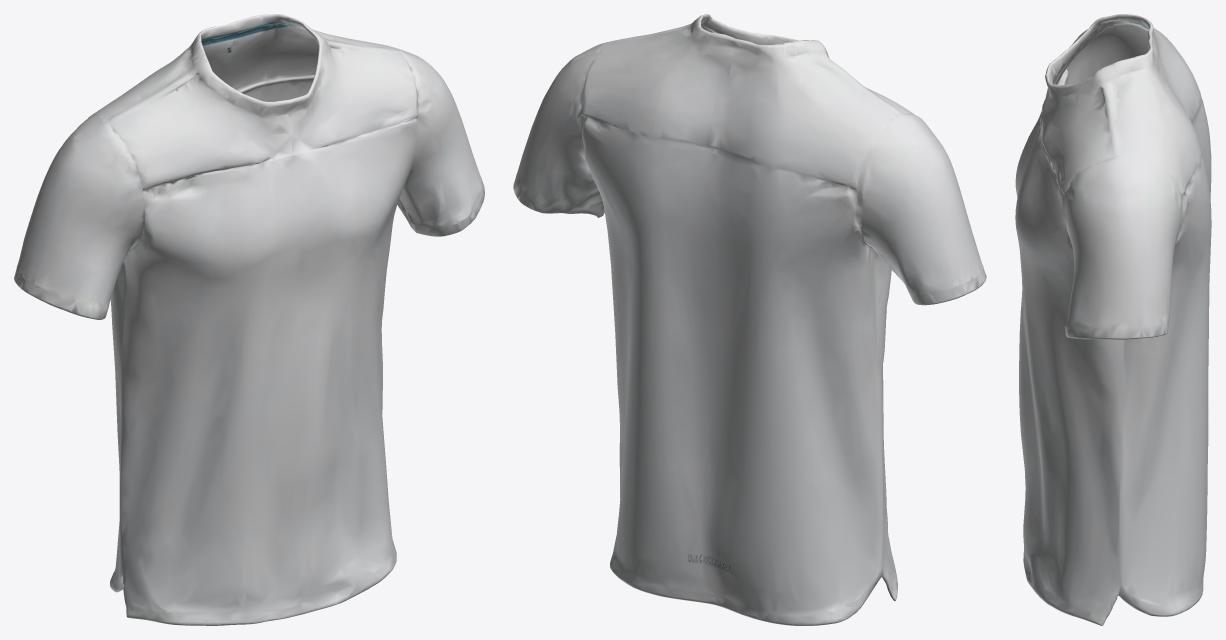
The picture shows the model from 3 angles, left to right: view 1: azimuth 30°, elevation 25°; view 2: azimuth 150°, elevation 25°; view 3: azimuth 270°, elevation 25°; orthographic projection. The views are drawn at different scales.
Visible parts, largest first — view 1: tripo_node_1e89f444-b3ab-4db3-b5c0-270a23798767; view 2: tripo_node_1e89f444-b3ab-4db3-b5c0-270a23798767; view 3: tripo_node_1e89f444-b3ab-4db3-b5c0-270a23798767.
Part boxes in pixels (bbox=[...]): tripo_node_1e89f444-b3ab-4db3-b5c0-270a23798767: bbox=[14, 14, 484, 625]; tripo_node_1e89f444-b3ab-4db3-b5c0-270a23798767: bbox=[513, 14, 986, 625]; tripo_node_1e89f444-b3ab-4db3-b5c0-270a23798767: bbox=[1015, 14, 1211, 625].
Bounding box in the file's own units: 0.8691 × 0.9999 × 0.3355.
1 material, 1 textured.
